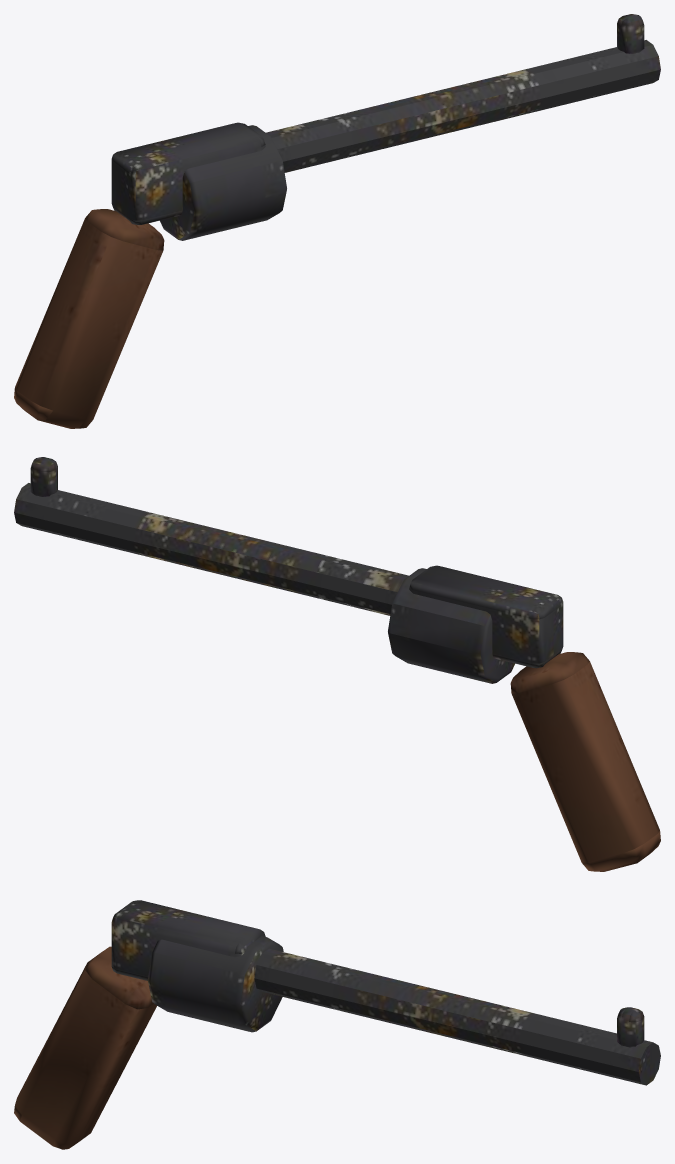
The model's file is held_weapon_nagant.glb.
3 renders of one model, top to bottom at view 1: azimuth 30°, elevation 25°; view 2: azimuth 150°, elevation 25°; view 3: azimuth 330°, elevation 25°, orthographic.
Parts seen in each view (by area): view 1: box.001, cyl, box, cyl.001, box.002; view 2: box.001, cyl, box, cyl.001, box.002; view 3: cyl, box.001, cyl.001, box, box.002.
Boxes of the visible parts, left/top/right/bottom form: box.001: left=14, top=209, right=164, bottom=428; cyl: left=266, top=40, right=660, bottom=172; box: left=111, top=122, right=265, bottom=225; cyl.001: left=160, top=125, right=286, bottom=240; box.002: left=617, top=14, right=644, bottom=53; box.001: left=510, top=652, right=660, bottom=871; cyl: left=14, top=483, right=408, bottom=615; box: left=409, top=565, right=563, bottom=668; cyl.001: left=388, top=568, right=514, bottom=683; box.002: left=30, top=457, right=57, bottom=496; cyl: left=254, top=948, right=660, bottom=1085; box.001: left=14, top=946, right=156, bottom=1149; cyl.001: left=147, top=936, right=283, bottom=1032; box: left=111, top=900, right=265, bottom=980; box.002: left=617, top=1007, right=644, bottom=1047.
Size of the model in its own units: 0.3261 by 0.1345 by 0.044.
2 materials, 2 textured.
